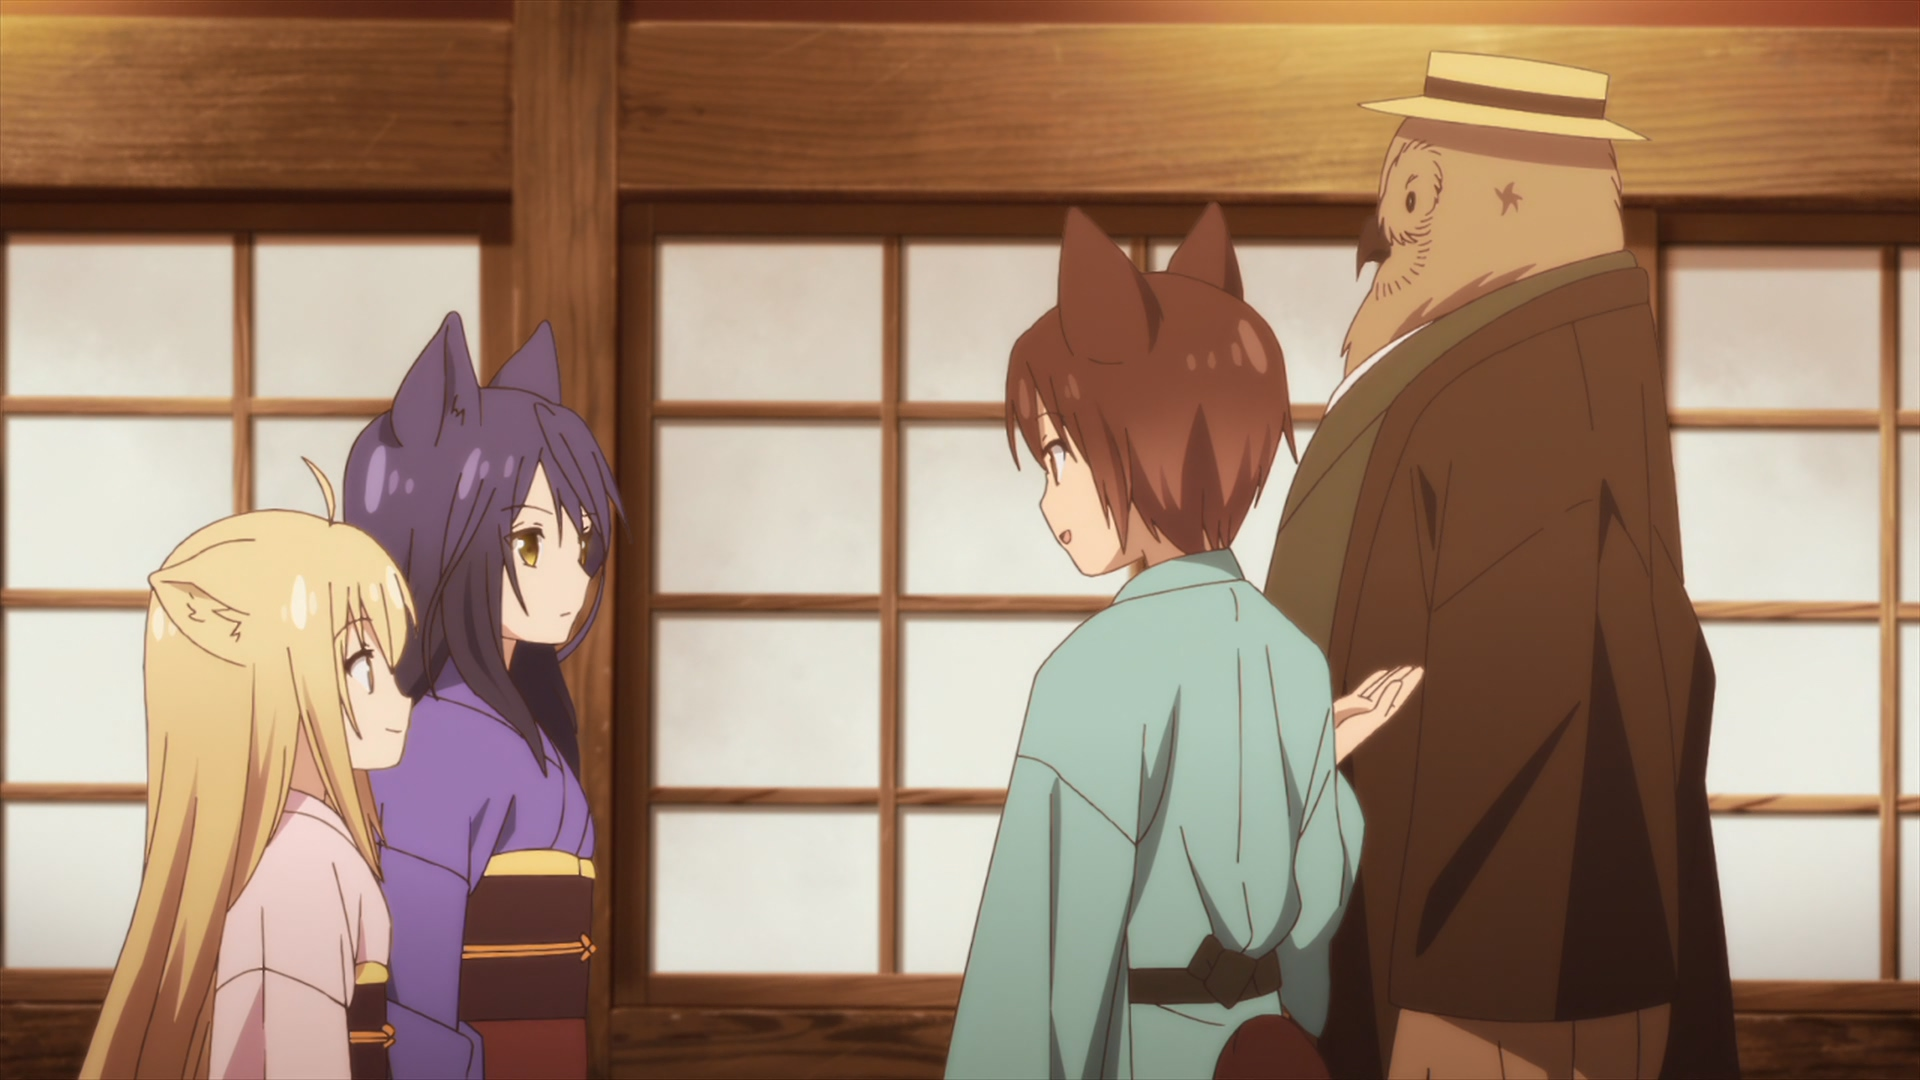其他: (1265, 51, 1733, 1080)
枣: (942, 200, 1422, 1080)
柚: (78, 459, 419, 1080)
皋: (345, 313, 620, 1080)
